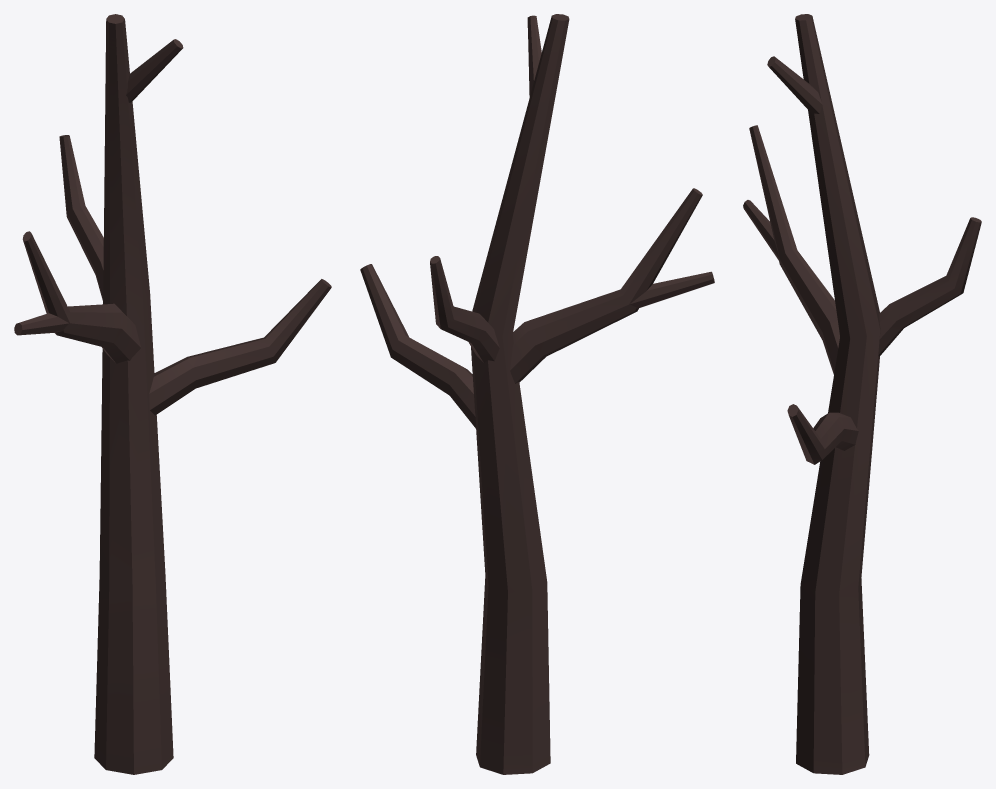
Rendered from SM_DE_DeadTree_02.fbx.
The picture shows the model from 3 angles, left to right: view 1: azimuth 30°, elevation 25°; view 2: azimuth 150°, elevation 25°; view 3: azimuth 270°, elevation 25°; orthographic projection. The views are drawn at different scales.
Visible parts, largest first — view 1: Dead_tree_2; view 2: Dead_tree_2; view 3: Dead_tree_2.
Part boxes in pixels (box(x1,y1,x2,y2)): Dead_tree_2: box(14, 14, 331, 774); Dead_tree_2: box(360, 14, 714, 774); Dead_tree_2: box(743, 14, 981, 774).
Bounding box in the file's own units: 0.4277 × 0.9138 × 0.2719.
